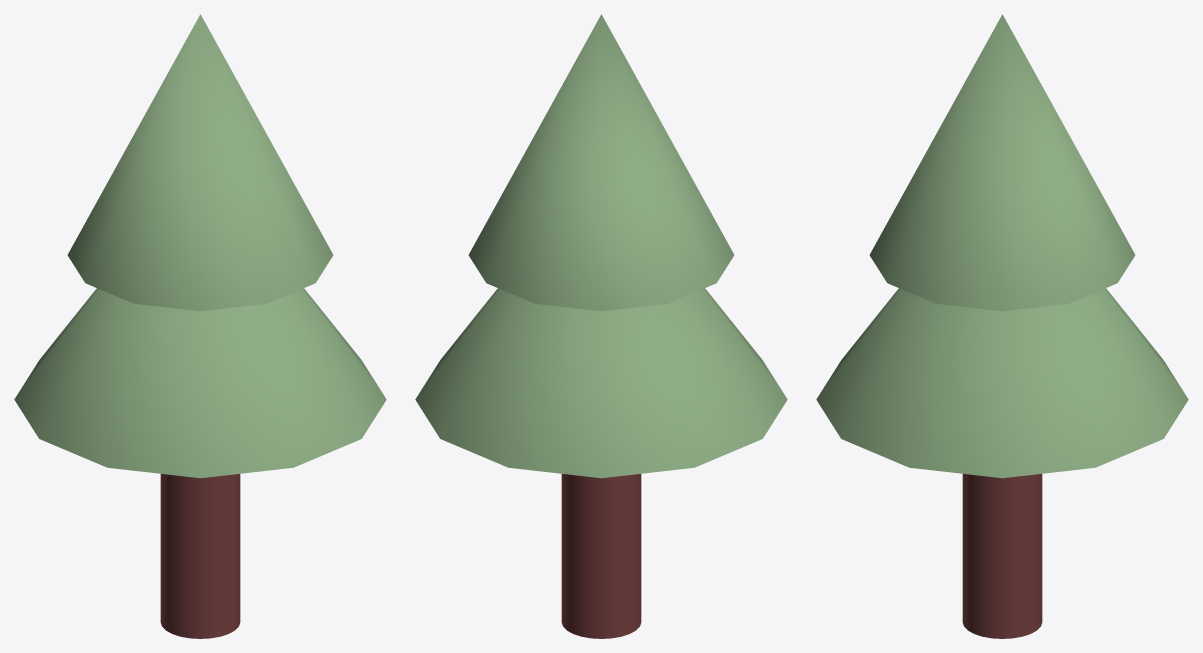
3 views of the same model, side by side, from view 1: azimuth 30°, elevation 25°; view 2: azimuth 150°, elevation 25°; view 3: azimuth 270°, elevation 25° (orthographic).
Visible parts, largest first — view 1: Cone1, Cone, Cylinder; view 2: Cone1, Cone, Cylinder; view 3: Cone1, Cone, Cylinder.
Part boxes in pixels (x1,y1,x2,y2): Cone1: [14, 288, 386, 478]; Cone: [67, 14, 333, 311]; Cylinder: [160, 474, 240, 638]; Cone1: [415, 288, 787, 478]; Cone: [468, 14, 734, 311]; Cylinder: [561, 474, 641, 638]; Cone1: [816, 288, 1188, 478]; Cone: [869, 14, 1135, 311]; Cylinder: [962, 474, 1042, 638].
Bounding box in the file's own units: 1.4 × 2.52 × 1.4.
